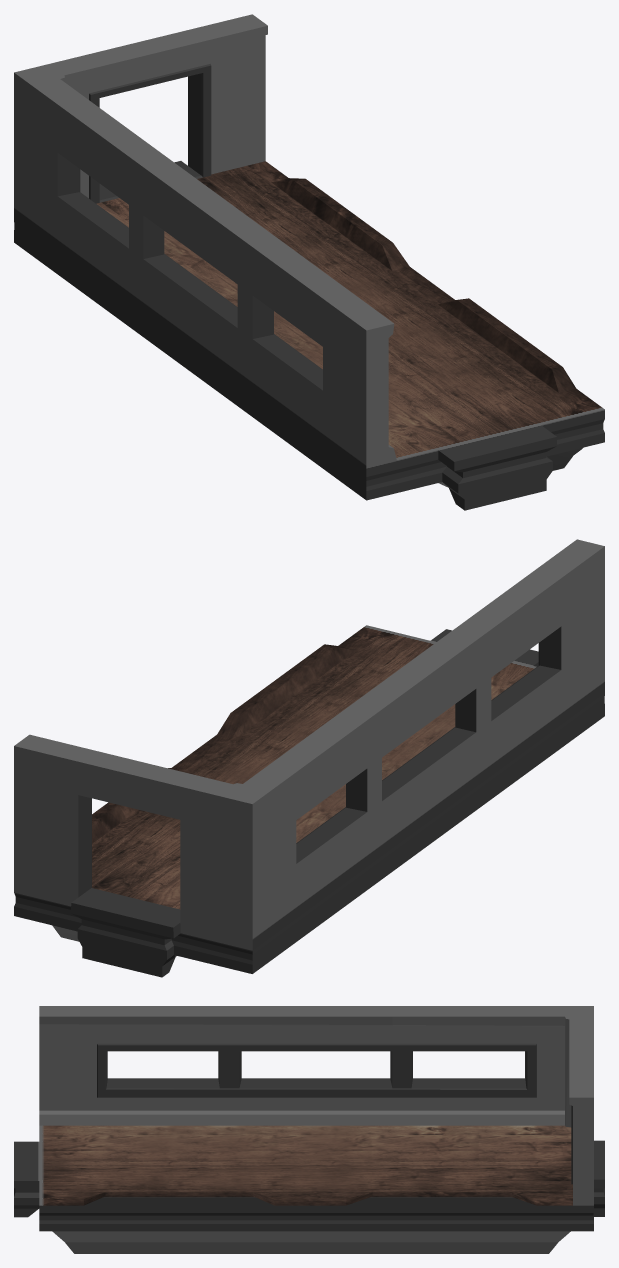
Rendered from TrainBody.fbx.
3 views of the same model, one above another, from view 1: azimuth 30°, elevation 25°; view 2: azimuth 150°, elevation 25°; view 3: azimuth 270°, elevation 25° (orthographic). The views are drawn at different scales.
Visible parts, largest first — view 1: TrainBody; view 2: TrainBody; view 3: TrainBody.
Boxes of the visible parts, x1,y1,x2,y2 form: TrainBody: (14, 14, 604, 510); TrainBody: (14, 539, 604, 977); TrainBody: (14, 1006, 604, 1253).
Bounding box in the file's own units: 6.24 × 5.19 × 17.01.
